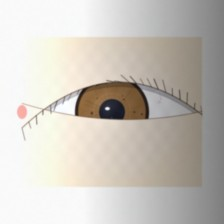hemorrhage_spot: (54, 90, 146, 163)
